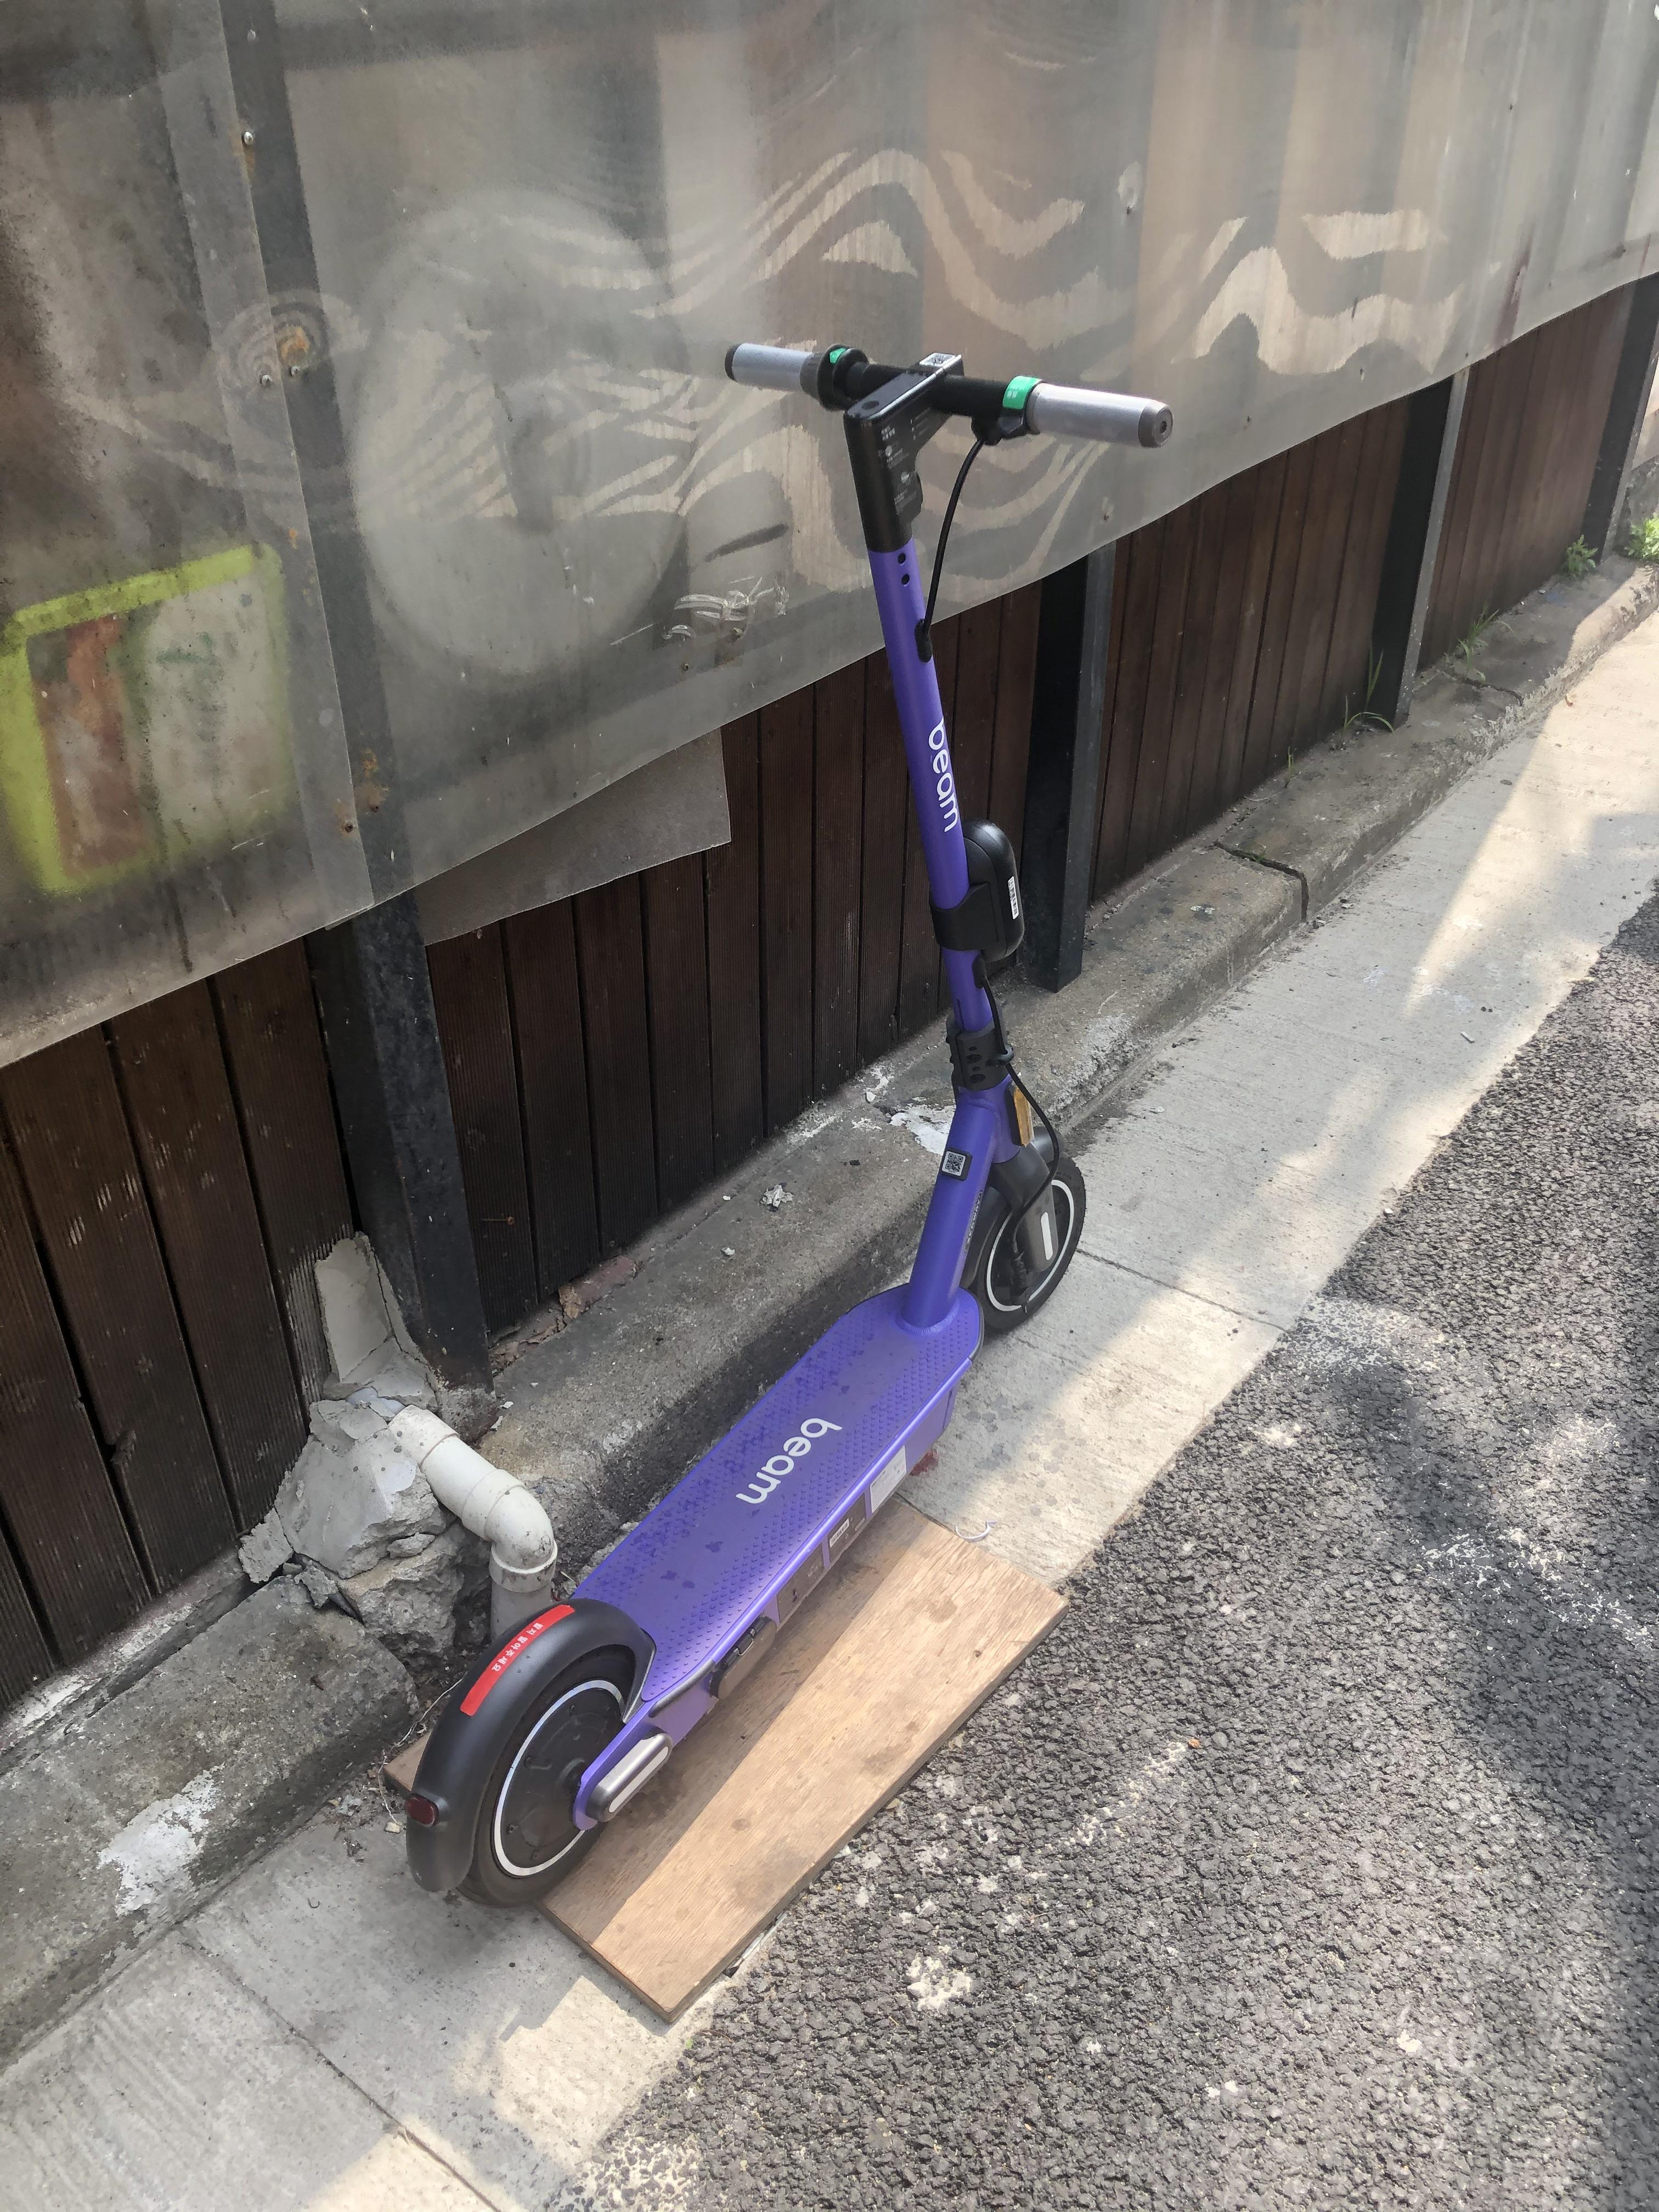scooter: (390, 324, 1168, 1907)
